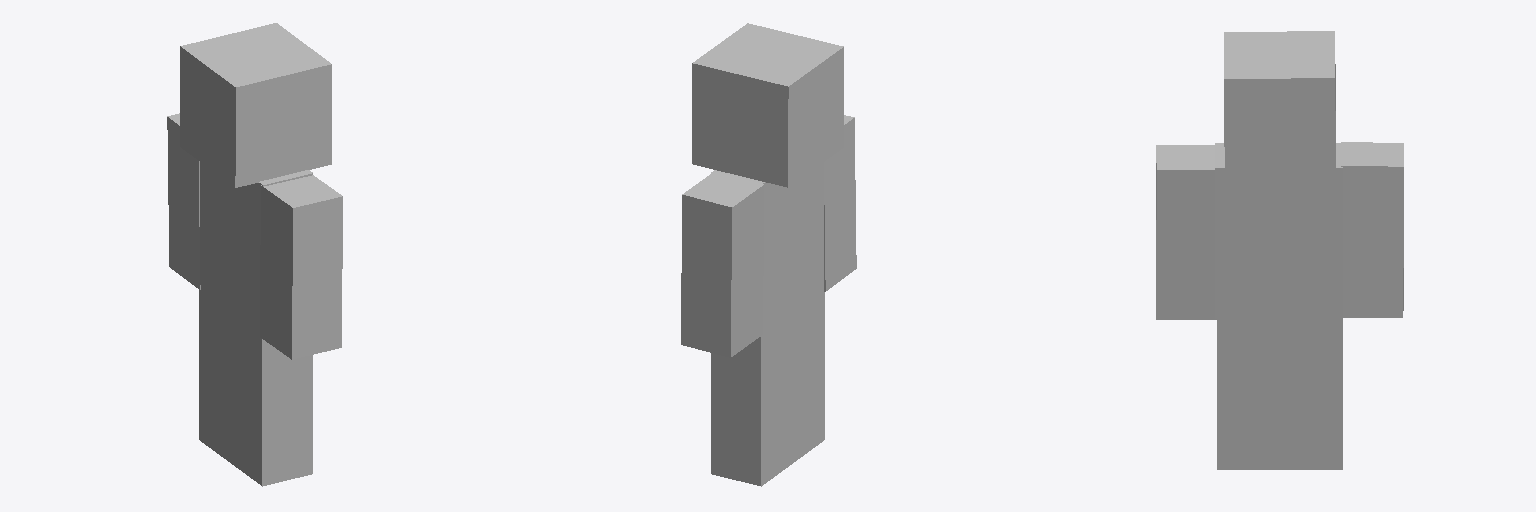
File: steve.obj
3 renders of one model, left to right at view 1: azimuth 30°, elevation 25°; view 2: azimuth 150°, elevation 25°; view 3: azimuth 270°, elevation 25°, orthographic.
Visible parts, largest first — view 1: Steve_Head, Steve_RArm, Steve_RLeg, Steve_Body, Steve_LLeg, Steve_LArm; view 2: Steve_Head, Steve_LArm, Steve_LLeg, Steve_Body, Steve_RLeg, Steve_RArm; view 3: Steve_Body, Steve_Head, Steve_LArm, Steve_RArm, Steve_LLeg, Steve_RLeg.
Part boxes in pixels (x1,y1,x2,y2): Steve_Head: (180,23,331,187); Steve_RArm: (260,175,342,359); Steve_RLeg: (231,313,312,486); Steve_Body: (200,162,312,332); Steve_LLeg: (199,290,230,462); Steve_LArm: (167,113,200,289); Steve_Head: (692,23,843,187); Steve_LArm: (681,171,763,357); Steve_LLeg: (711,313,792,486); Steve_Body: (711,162,823,333); Steve_RLeg: (793,290,824,462); Steve_RArm: (824,115,856,291); Steve_Body: (1215,143,1342,318); Steve_Head: (1224,31,1335,179); Steve_LArm: (1341,142,1403,317); Steve_RArm: (1156,145,1216,319); Steve_LLeg: (1280,319,1342,469); Steve_RLeg: (1217,319,1279,469).
Bounding box in the file's own units: 2 × 7.98 × 4.47.